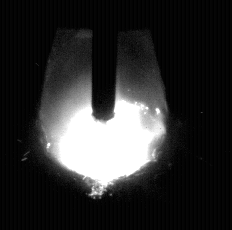arame: (92, 0, 117, 123)
poca: (41, 0, 167, 230)
